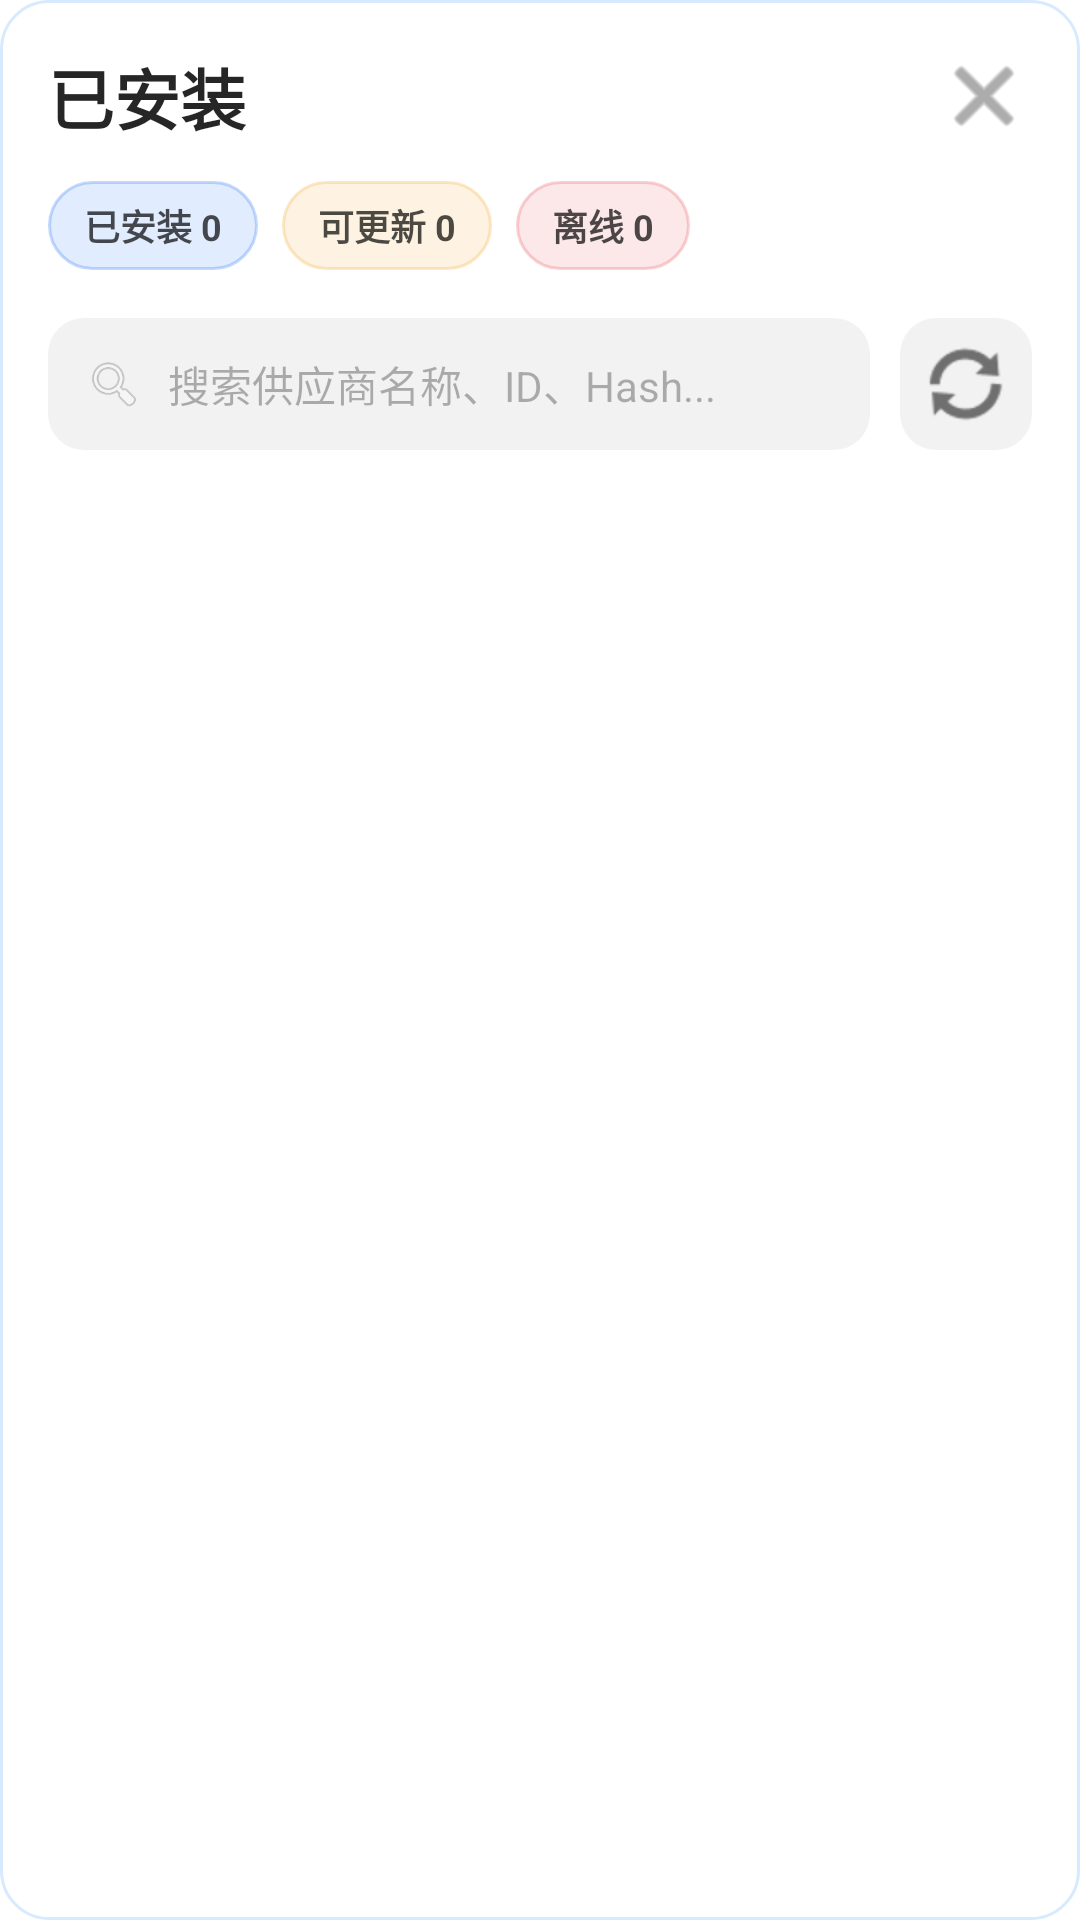

Where icons sit on this 1080×1920 app screen, as (x1, y1, x2, y2):
close clear cancel: (954, 66, 1014, 126)
popup sync: (900, 318, 1032, 450)
search: (92, 362, 136, 406)
